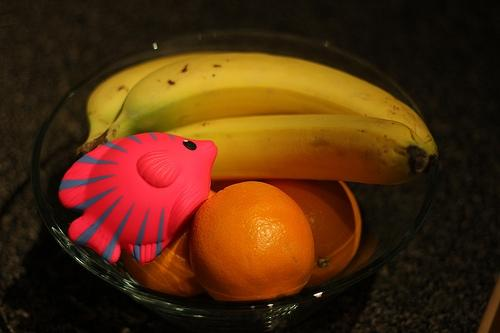banana: (96, 52, 442, 180), (164, 113, 430, 186)
orange: (189, 181, 315, 301), (260, 179, 362, 288), (121, 190, 217, 296)
